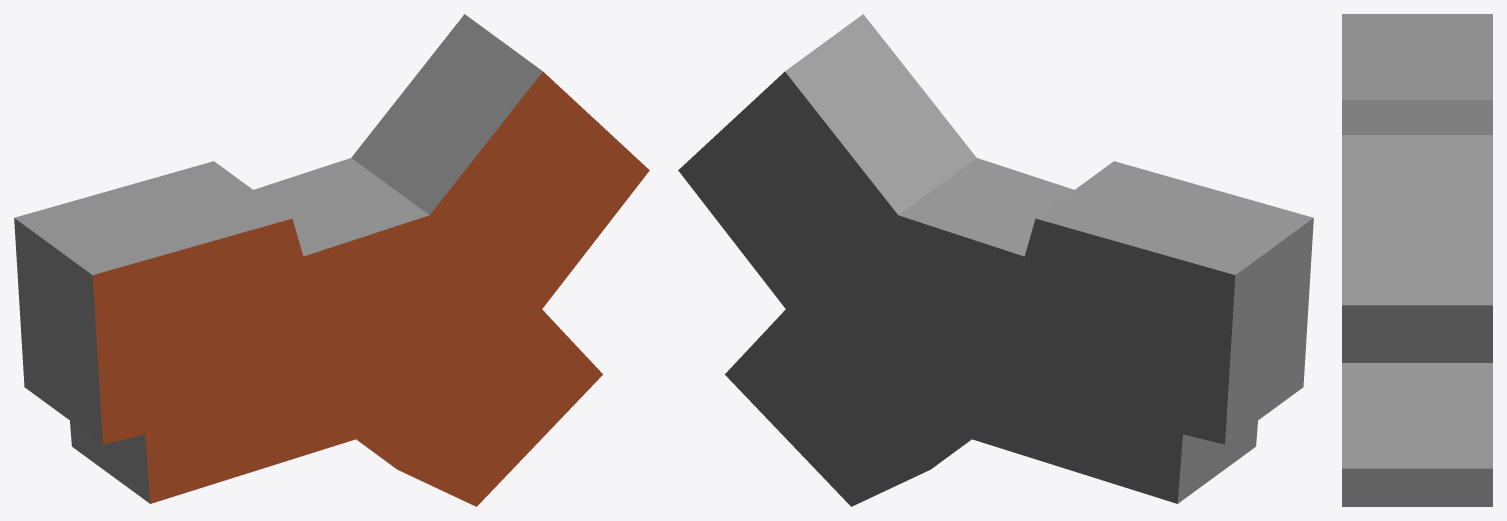
Rendered from construction_4919_assumed_A_Casa_h6m.obj.
3 renders of one model, left to right at view 1: azimuth 30°, elevation 25°; view 2: azimuth 150°, elevation 25°; view 3: azimuth 270°, elevation 25°, orthographic. The views are drawn at different scales.
Parts seen in each view (by area): view 1: construction_4919_assumed_A_Casa; view 2: construction_4919_assumed_A_Casa; view 3: construction_4919_assumed_A_Casa.
Part boxes in pixels (<box>): construction_4919_assumed_A_Casa: <box>14,14,649,506</box>; construction_4919_assumed_A_Casa: <box>678,14,1313,506</box>; construction_4919_assumed_A_Casa: <box>1342,14,1492,506</box>.
Bounding box in the file's own units: 24.61 × 17.69 × 6.
